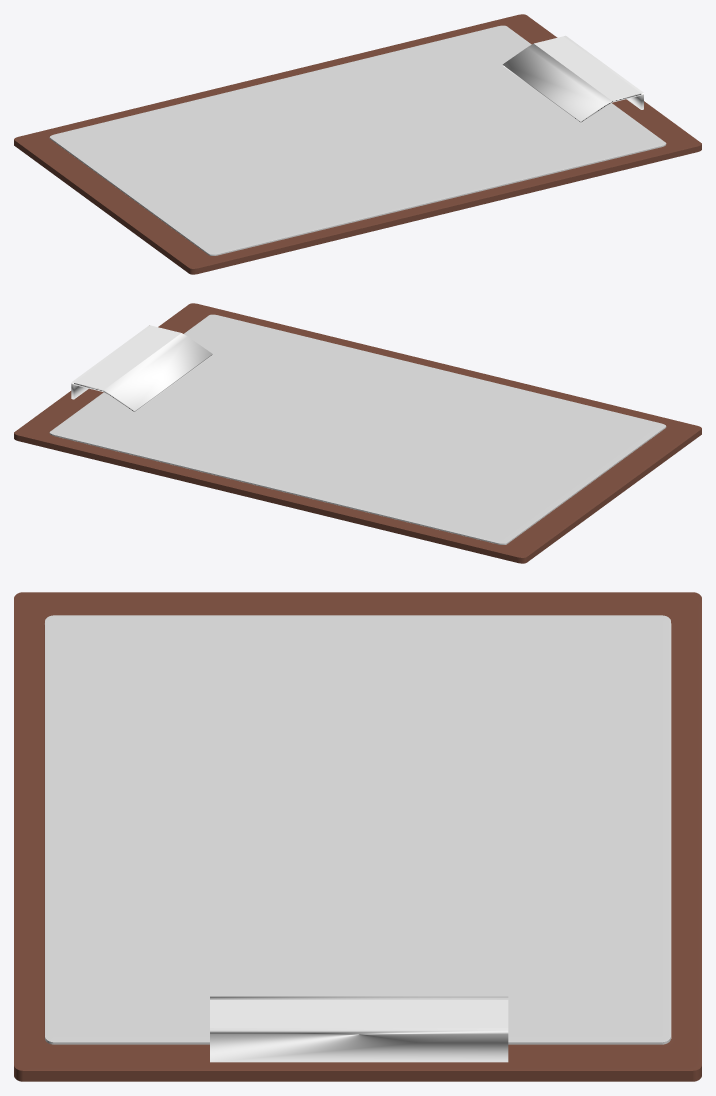
File: Clipboard.fbx
The picture shows the model from 3 angles, top to bottom: view 1: azimuth 30°, elevation 25°; view 2: azimuth 150°, elevation 25°; view 3: azimuth 270°, elevation 25°; orthographic projection. The views are drawn at different scales.
Visible parts, largest first — view 1: ClipBoard; view 2: ClipBoard; view 3: ClipBoard.
Part boxes in pixels (bbox=[...]): ClipBoard: bbox=[14, 14, 701, 274]; ClipBoard: bbox=[14, 303, 701, 563]; ClipBoard: bbox=[14, 592, 701, 1081].
Bounding box in the file's own units: 447 × 20.83 × 271.
